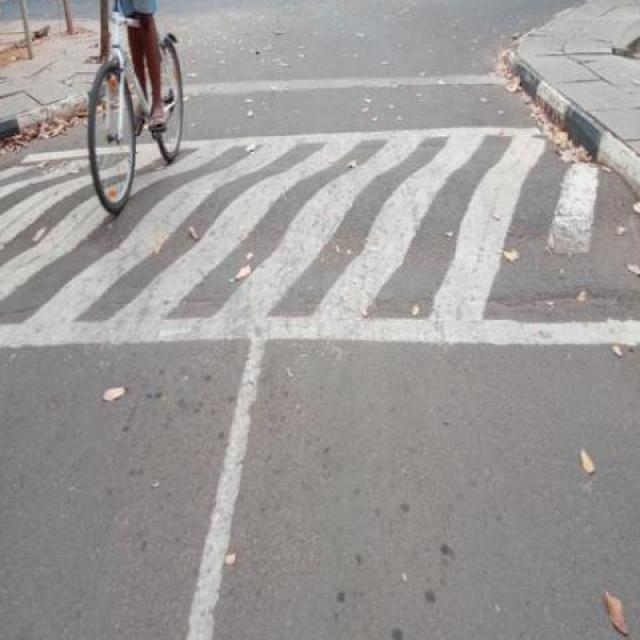Speed Bump: (1, 128, 632, 354)
